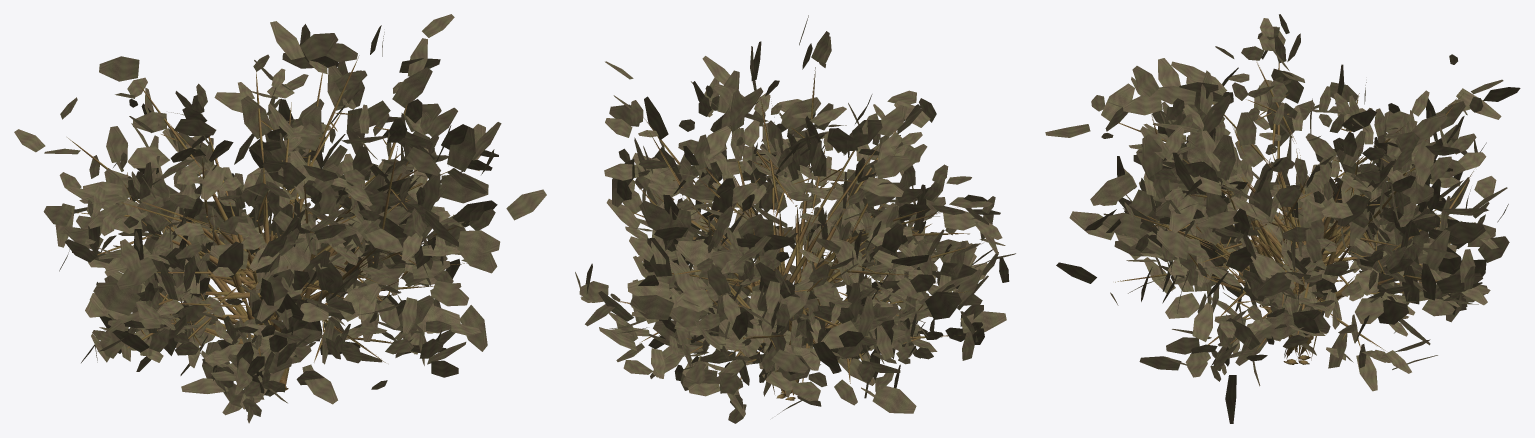
The model's file is SHRUB_04_Rustleaf_Wild.glb.
3 renders of one model, left to right at view 1: azimuth 30°, elevation 25°; view 2: azimuth 150°, elevation 25°; view 3: azimuth 270°, elevation 25°, orthographic. The views are drawn at different scales.
Parts seen in each view (by area): view 1: SHRUB_04_Rustleaf_Wild__FoliageCards, SHRUB_04_Rustleaf_Wild__WoodyStems; view 2: SHRUB_04_Rustleaf_Wild__FoliageCards, SHRUB_04_Rustleaf_Wild__WoodyStems; view 3: SHRUB_04_Rustleaf_Wild__FoliageCards, SHRUB_04_Rustleaf_Wild__WoodyStems.
Boxes of the visible parts, <box> form: SHRUB_04_Rustleaf_Wild__FoliageCards: <box>14,14,546,423</box>; SHRUB_04_Rustleaf_Wild__WoodyStems: <box>67,55,467,390</box>; SHRUB_04_Rustleaf_Wild__FoliageCards: <box>575,15,1015,423</box>; SHRUB_04_Rustleaf_Wild__WoodyStems: <box>614,67,982,400</box>; SHRUB_04_Rustleaf_Wild__FoliageCards: <box>1045,14,1520,423</box>; SHRUB_04_Rustleaf_Wild__WoodyStems: <box>1115,60,1476,364</box>.
Bounding box in the file's own units: 1.75 × 1.4 × 1.86.
1 material, 1 textured.
